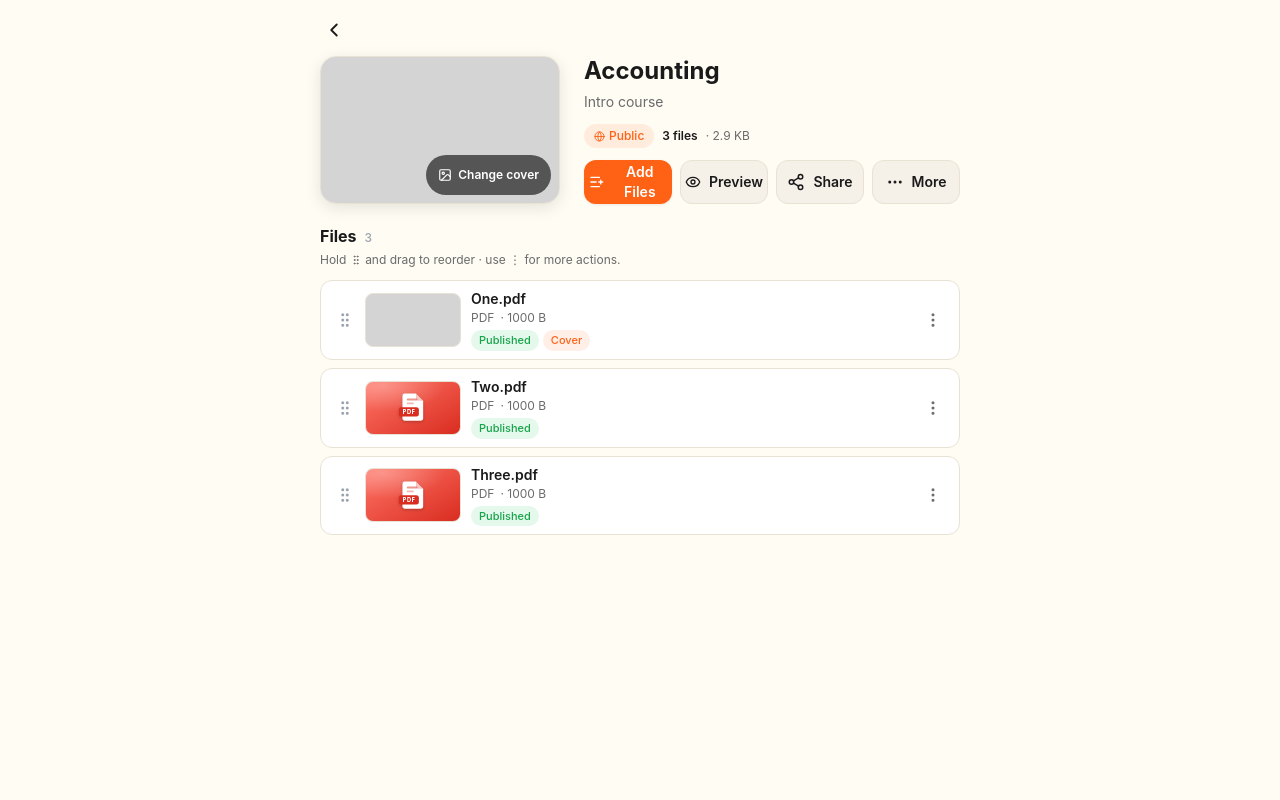
Creator playlist page — playlist More menu › Make private asks first, then PATCHes isPublished=false and the status updates
The width and height of the screenshot is (1280, 800).
Click the button with test id "action-menu-button" at [916, 182], box [872, 160, 960, 204]
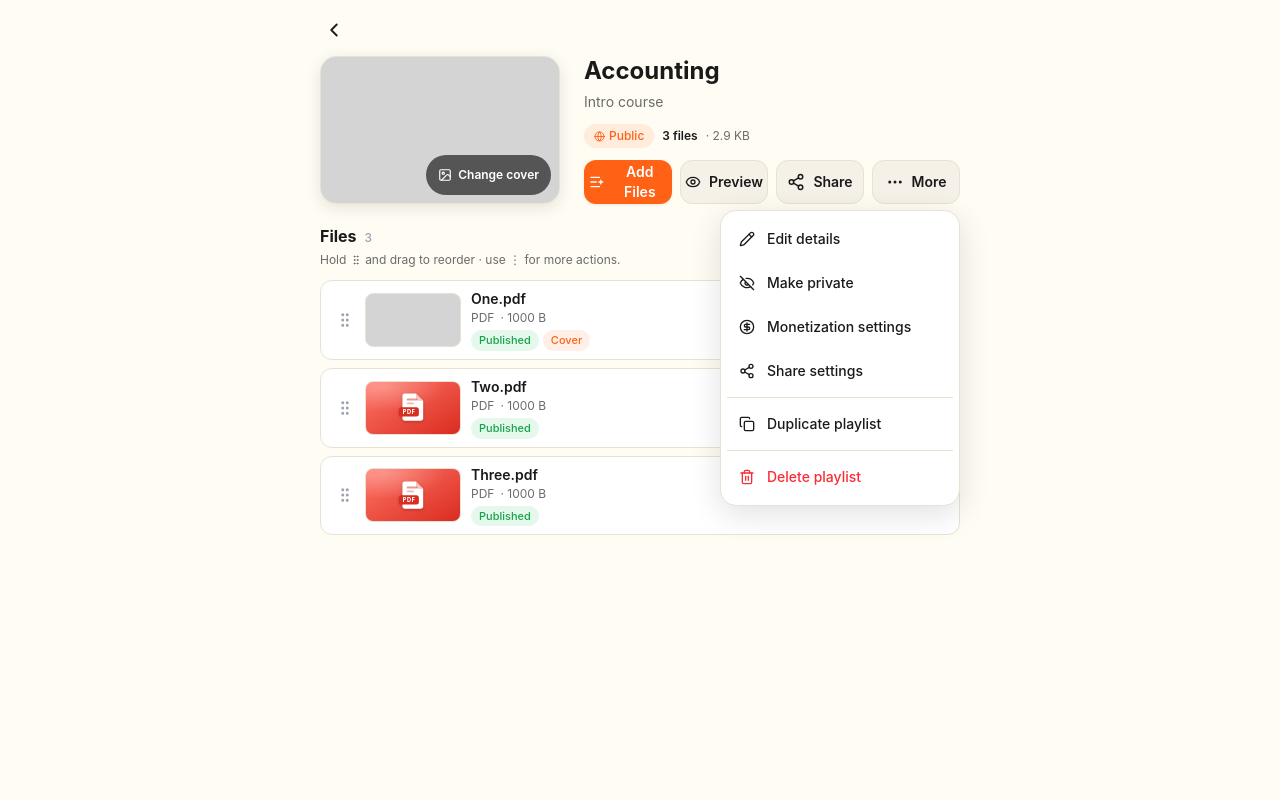
Click the menu item "Make private" at [840, 283], box [727, 261, 953, 305]
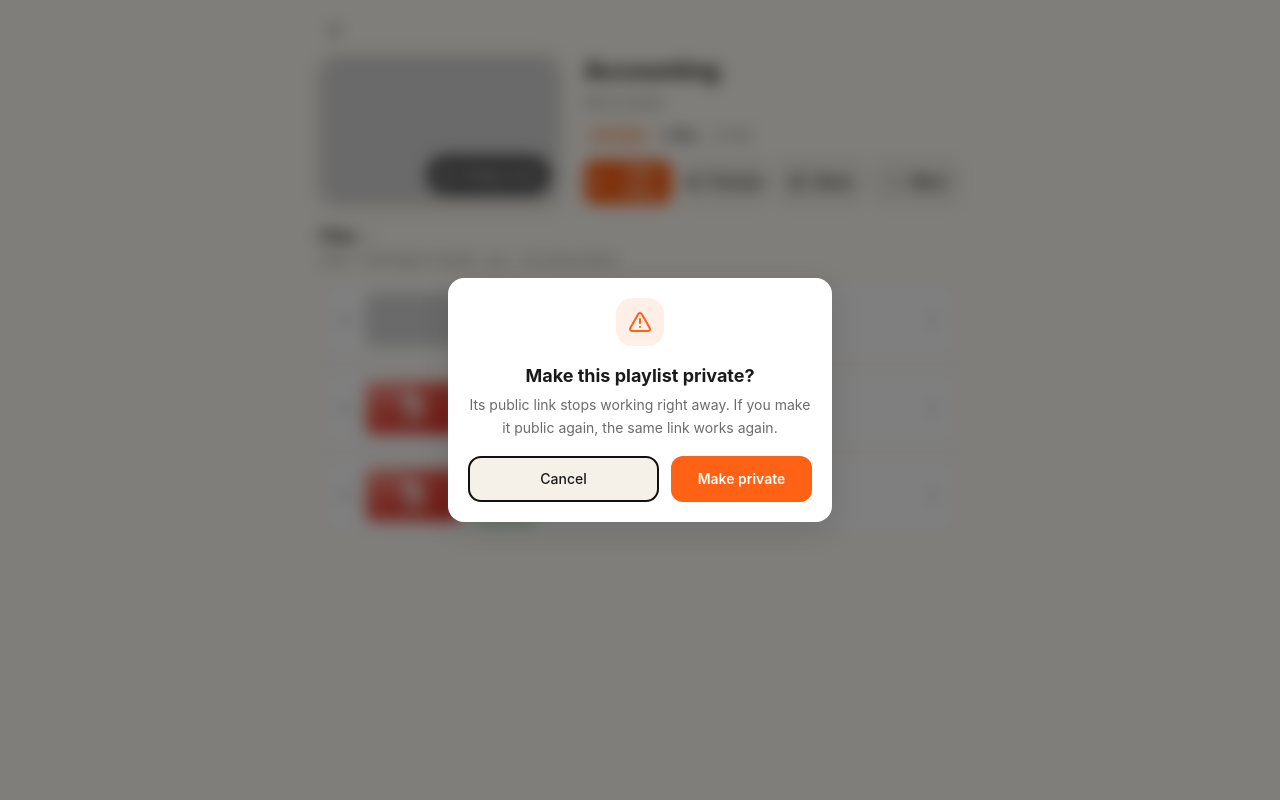
Expected: the dialog shows "public link stops working", [470, 396, 810, 436]
Click the button with test id "confirm-action" at [742, 479], box [671, 456, 812, 502]
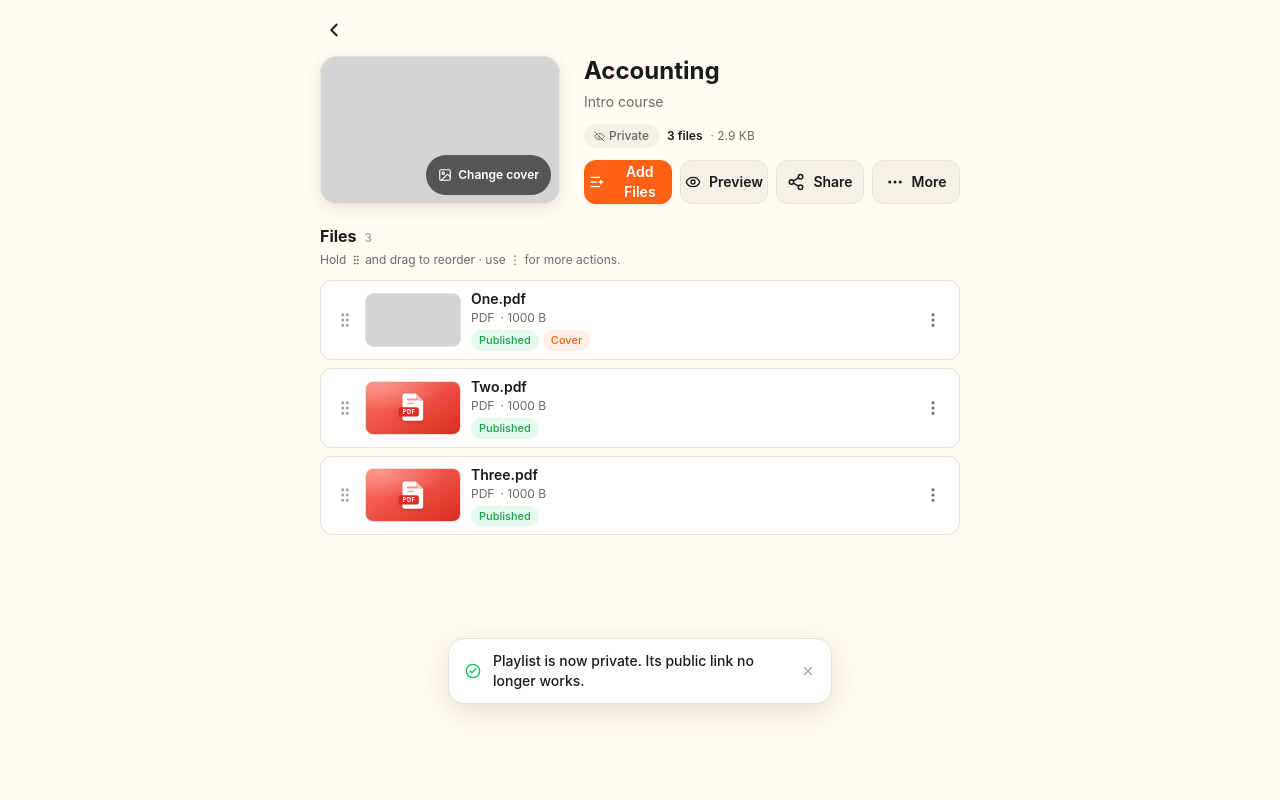
Expected: the element with test id "playlist-visibility" reads "Private", [609, 128, 649, 143]
